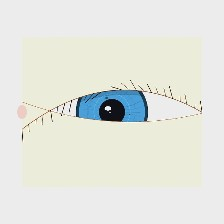pinguecula_lesion: (143, 97, 185, 130)
